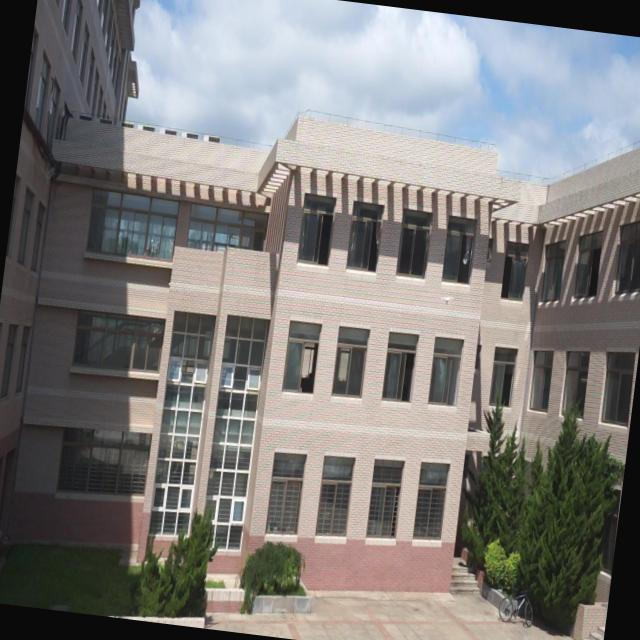drone: (438, 290, 456, 308)
